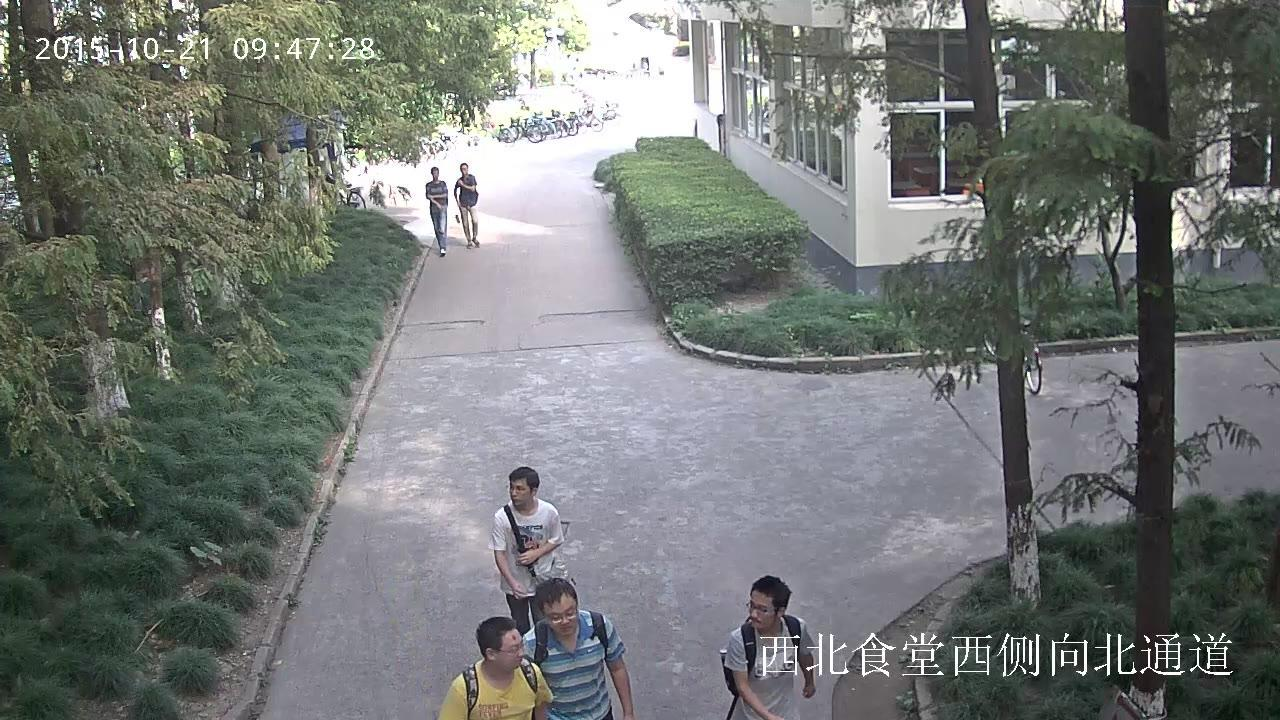person: (516, 576, 635, 720), (720, 575, 815, 720), (435, 616, 552, 720), (493, 466, 565, 634), (453, 163, 479, 249), (425, 167, 447, 255)
